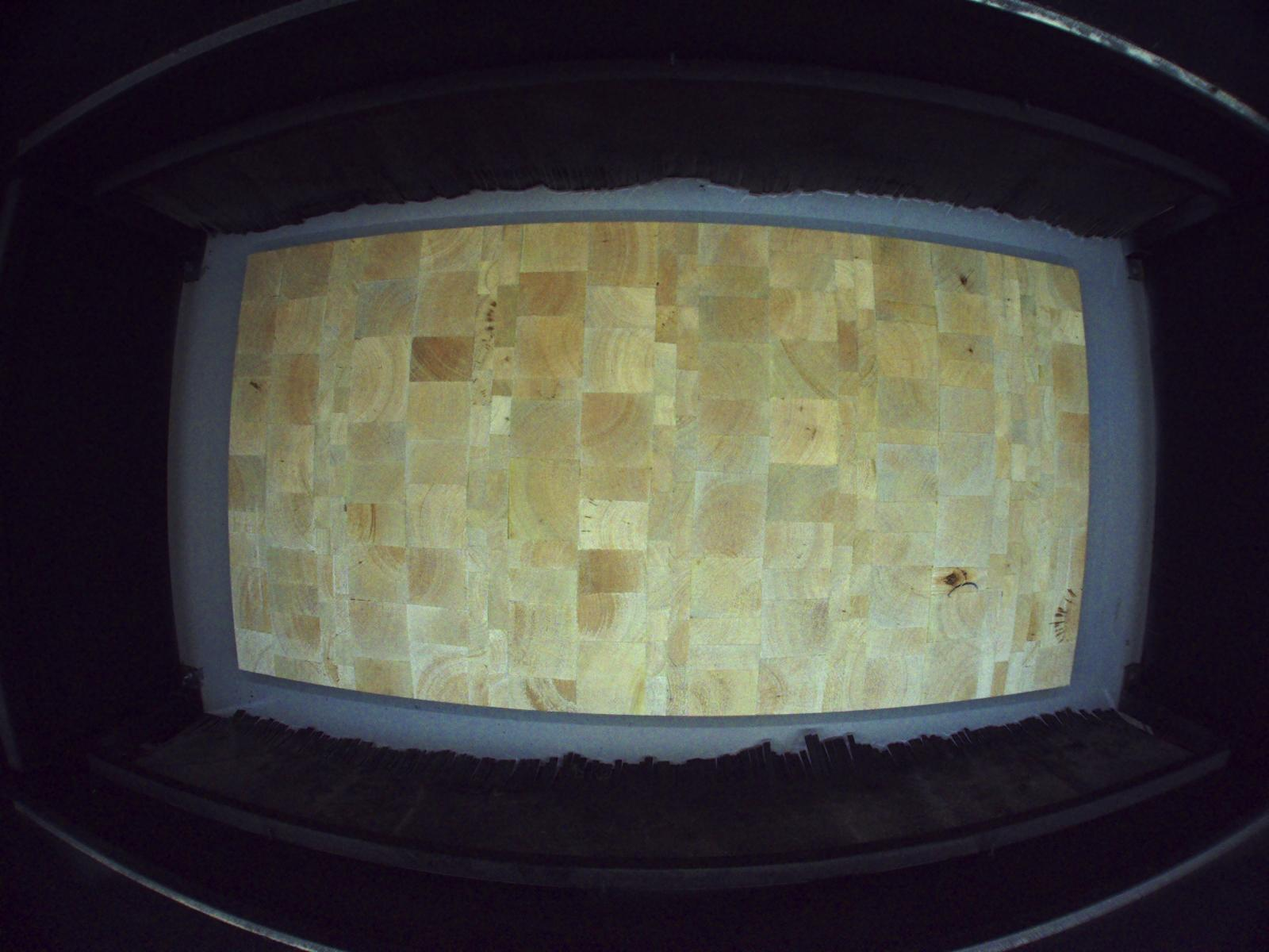nudillo: (931, 567, 969, 594)
